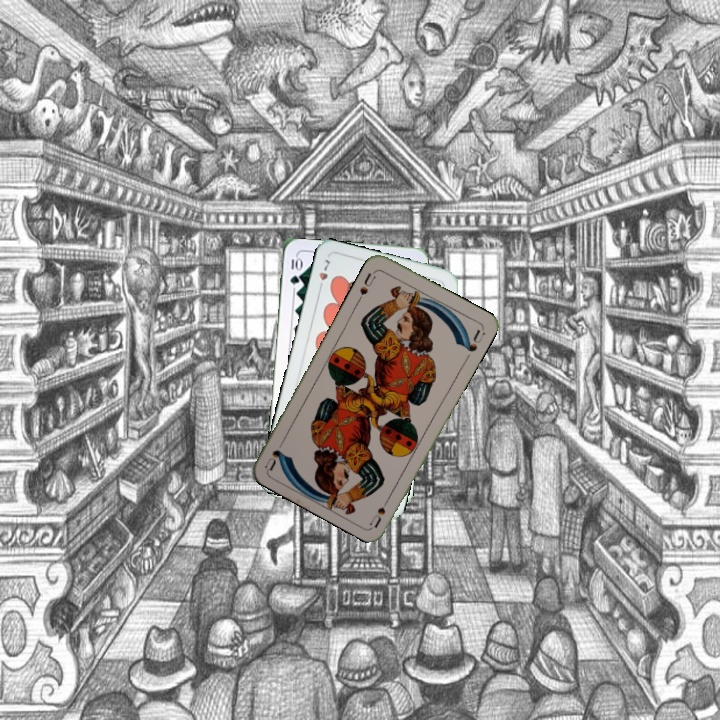G10: (286, 253, 303, 287)
H7: (314, 255, 332, 294)
SU: (366, 490, 394, 529), (354, 267, 379, 304)
